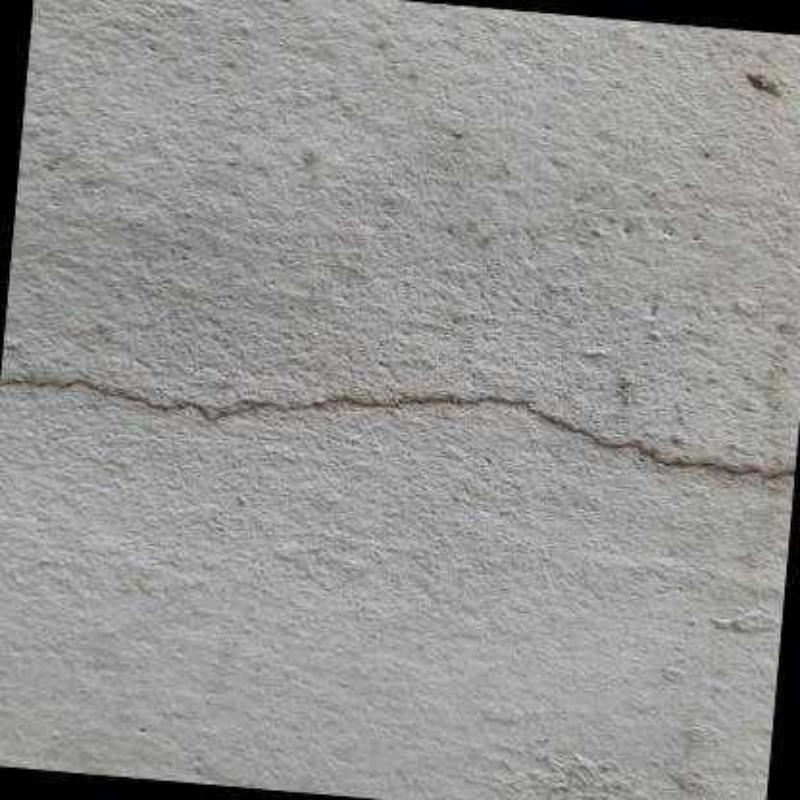pothole: (0, 381, 796, 479)
